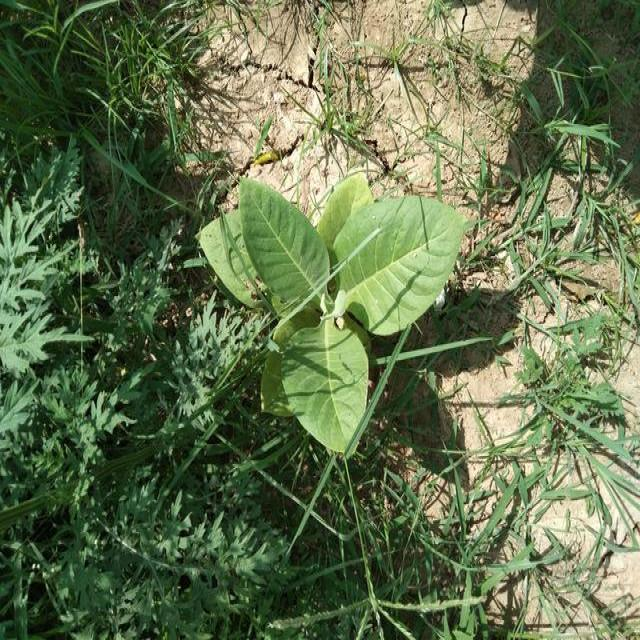crop: (214, 175, 473, 444)
